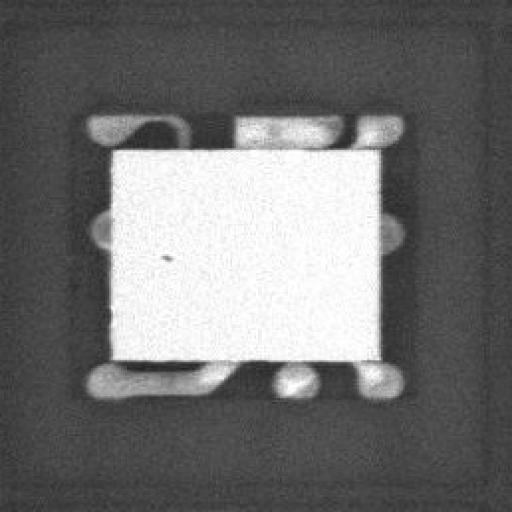DIE_INK: (148, 262, 167, 274)
